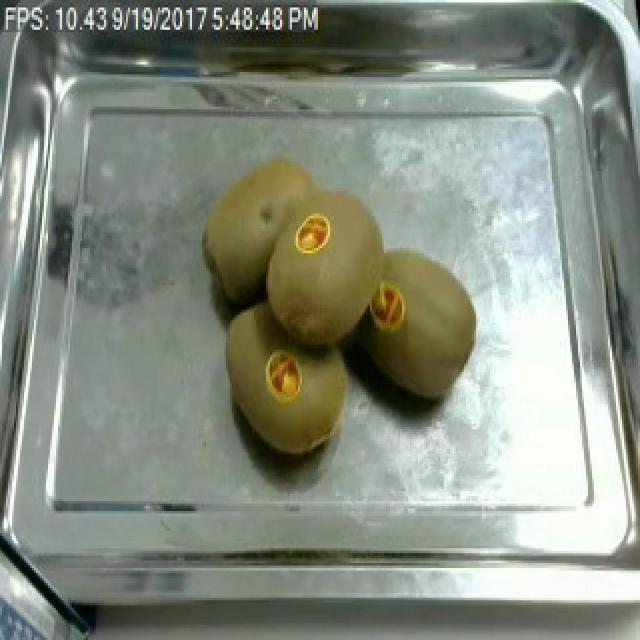Fruit: (258, 166, 394, 350), (218, 295, 364, 464), (360, 241, 488, 409)
